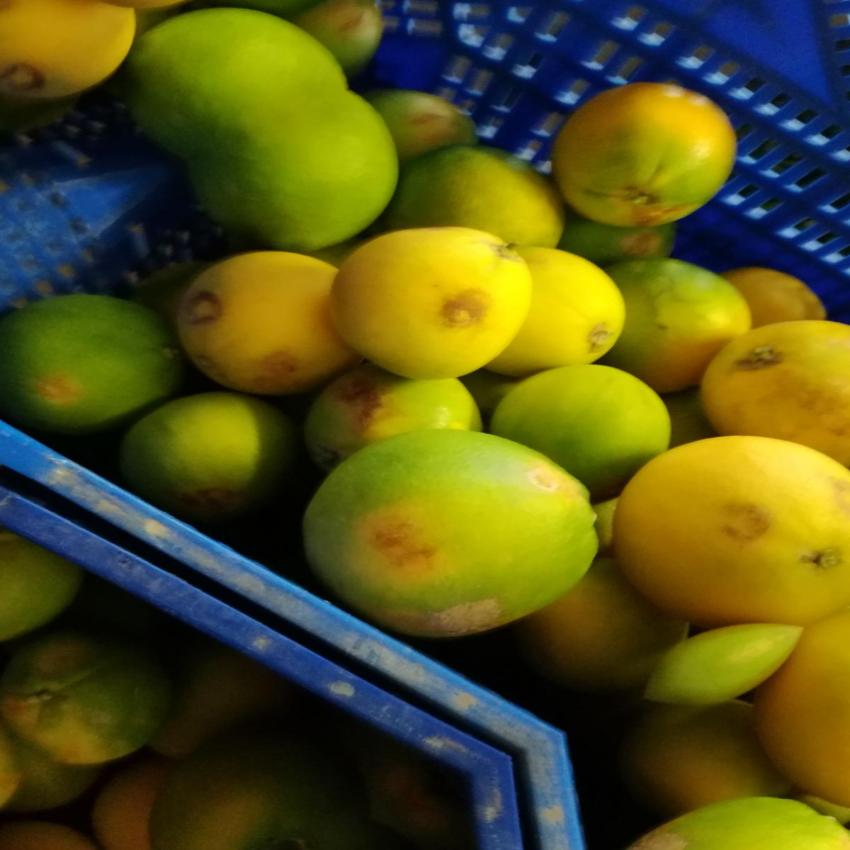Mal estado: (296, 420, 622, 648), (607, 425, 850, 609), (314, 224, 529, 386), (554, 77, 744, 234), (176, 246, 354, 402), (494, 240, 633, 378), (306, 366, 487, 471), (706, 319, 850, 449)
